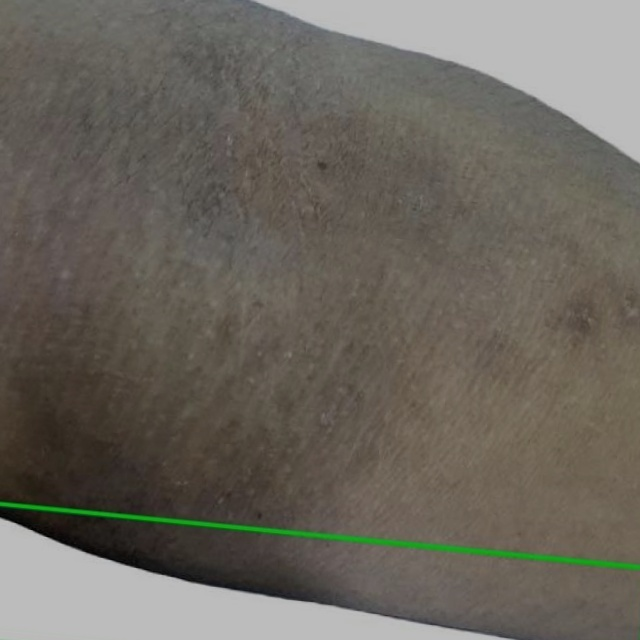Contact Dermatitis: (0, 503, 639, 639)
